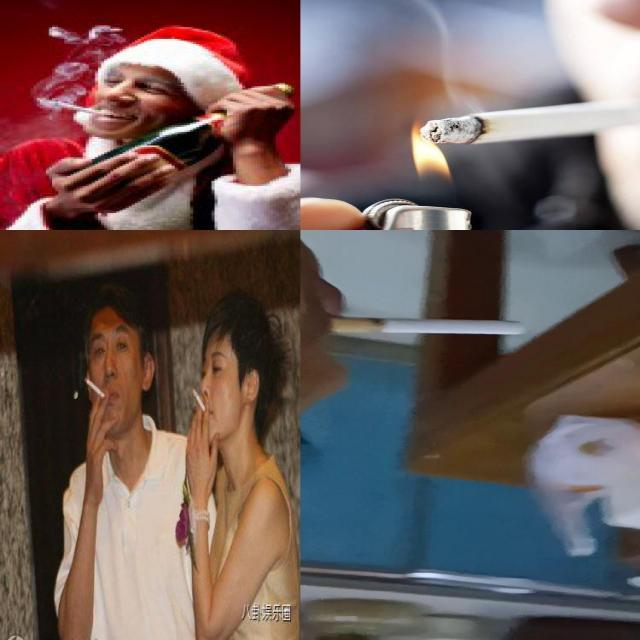cigarette: (420, 95, 640, 144), (329, 317, 523, 335), (46, 98, 114, 117), (83, 376, 106, 399), (192, 386, 207, 414)
